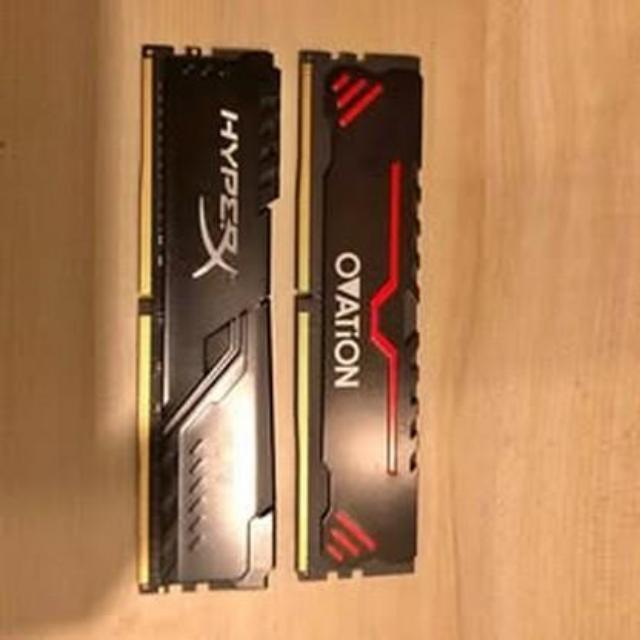RAM: (132, 41, 282, 594), (286, 48, 420, 592)
